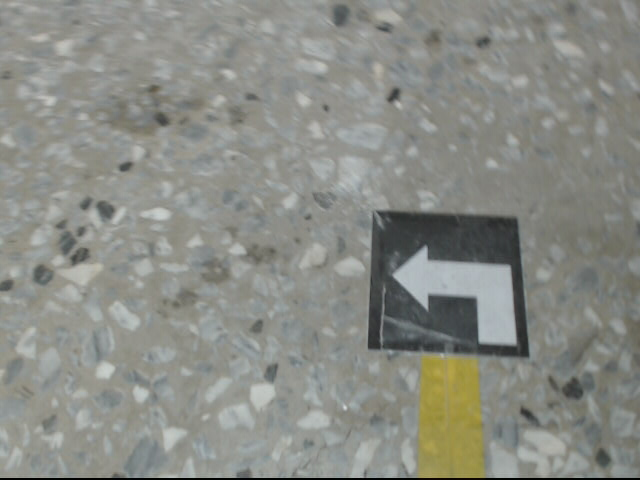left: (366, 207, 531, 357)
